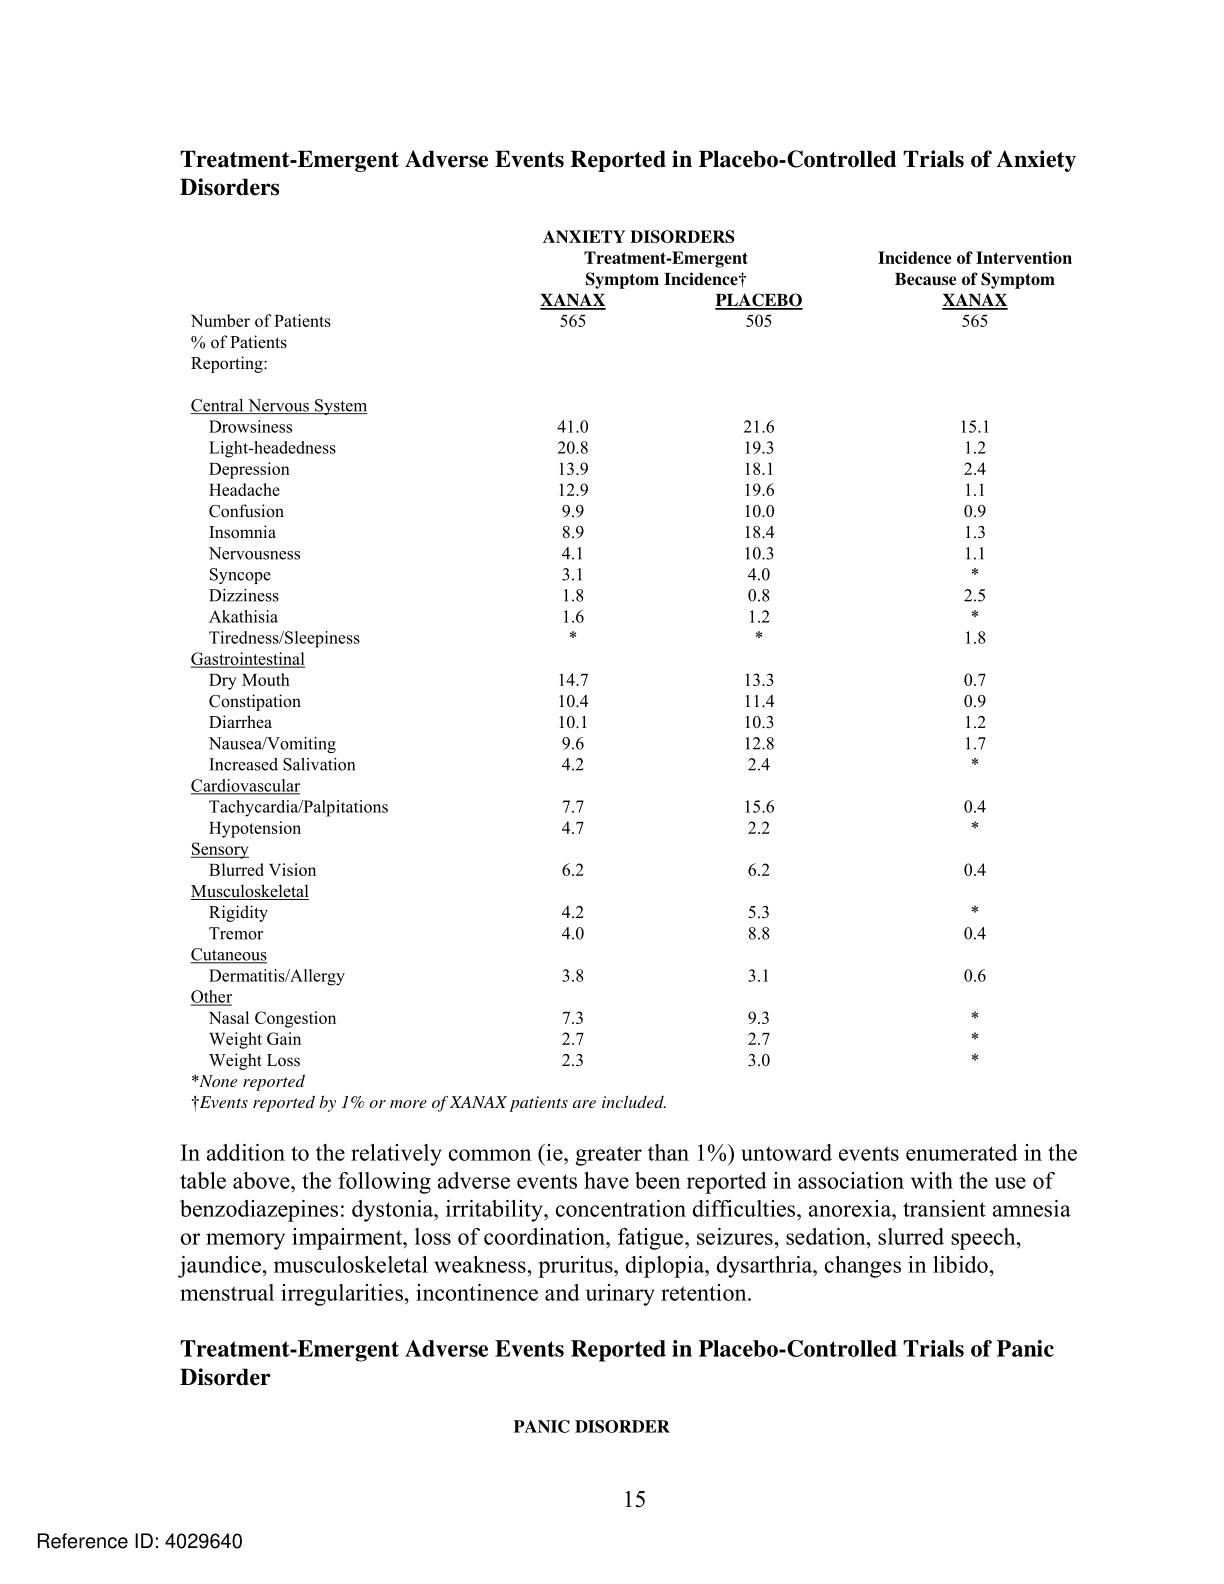nolines: (183, 228, 1074, 1090)
